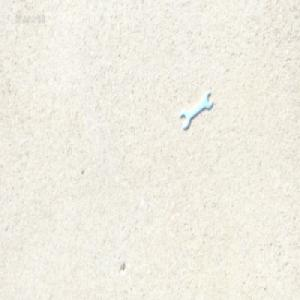Wrench: (178, 93, 210, 129)
